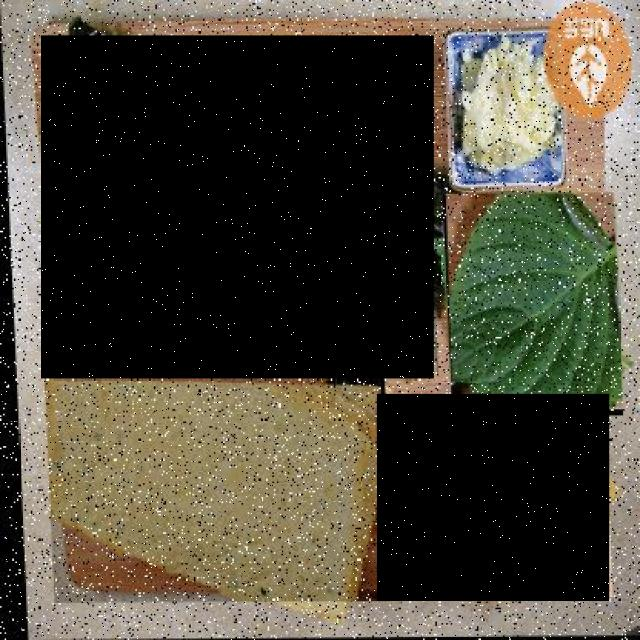Cheese: (377, 394, 609, 600)
seaweed: (41, 36, 434, 378)
